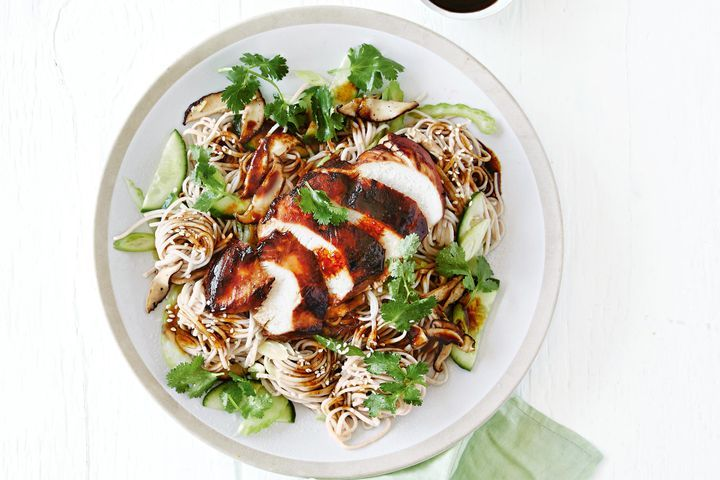Soba: (158, 74, 518, 455)
